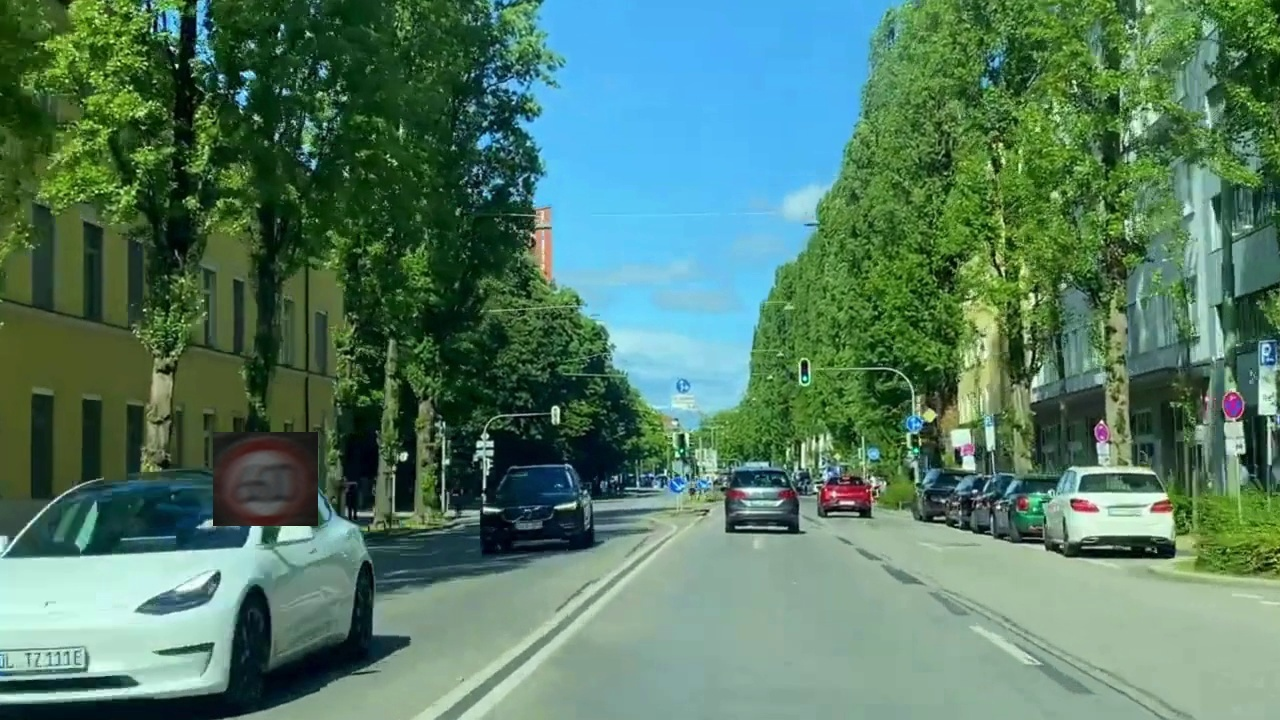Speed 60: (213, 432, 318, 526)
